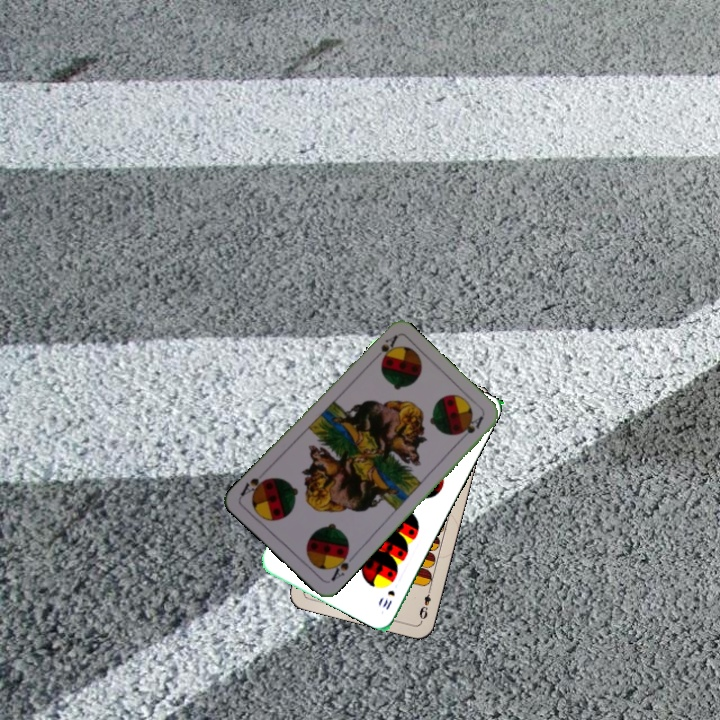E9: (415, 583, 434, 622)
S10: (378, 586, 397, 613)
SA: (368, 331, 400, 364), (327, 546, 352, 584)
